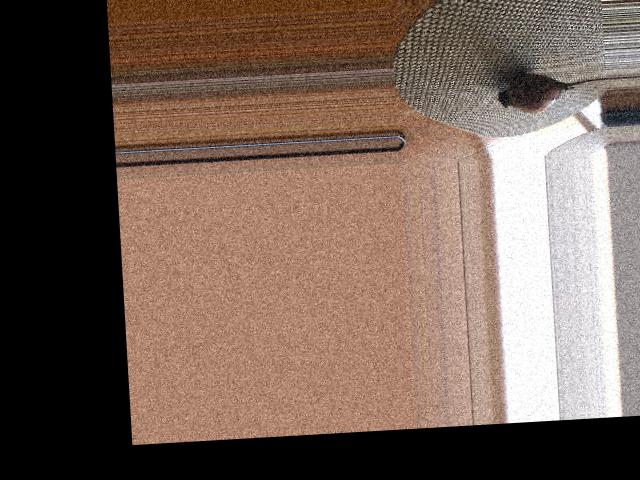beet: (496, 69, 607, 114)
